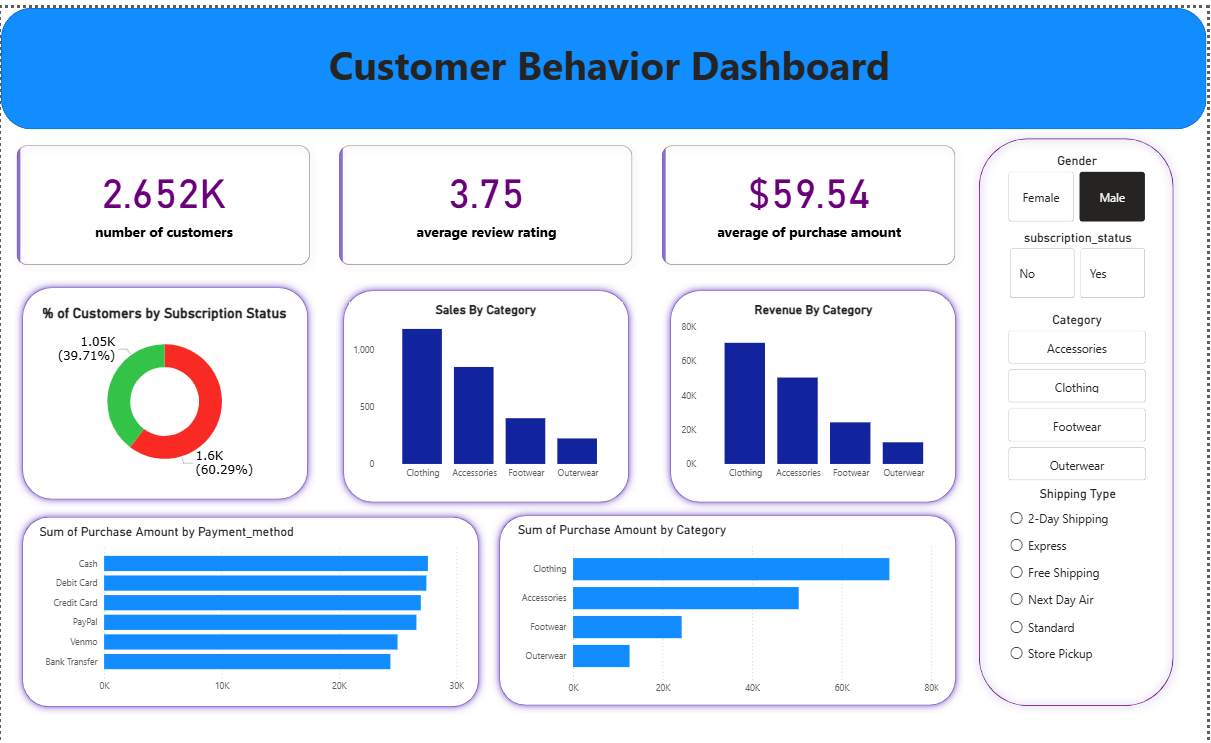

The page's visual inventory and layout, read from the dashboard file:
{"tool":"powerbi","page":{"name":"Page 1","canvas":[1640,1000],"ordinal":0},"visuals":[{"type":"cardVisual","fields":{"Data":["public customers.number of customers","public customers.average review rating","public customers.average of purchase amount"]},"box":[0,165,1320,205],"z":0},{"type":"shape","box":[0,0,1640,165],"z":1000},{"type":"textbox","box":[78.2,34.8,1500.7,98.5],"z":2000},{"type":"shape","box":[17.5,370,410,310],"z":3000},{"type":"donutChart","title":"% of Customers by Subscription Status","fields":{"Category":["public customers.subscription_status"],"Y":["Count(public customers.customer_id)"]},"box":[50,405,342.5,240],"z":4000},{"type":"shape","box":[1320,167.5,285,792.5],"z":9000},{"type":"advancedSlicerVisual","title":"Gender","fields":{"Values":["public customers.gender"]},"box":[1365,197.5,197.5,97.5],"z":11000},{"type":"advancedSlicerVisual","title":"Category","fields":{"Values":["public customers.category"]},"box":[1365,415,197.5,235],"z":12000},{"type":"listSlicer","title":"Shipping Type","fields":{"Values":["public customers.shipping_type"]},"box":[1367.5,650,195,252.5],"z":13000},{"type":"shape","box":[17.5,682.5,642.5,280],"z":14000},{"type":"clusteredBarChart","title":"Sum of Purchase Amount by Payment_method","fields":{"Y":["Sum(public customers.purchase_amount)"],"Category":["public customers.payment_method"]},"box":[47.5,702.5,587.5,237.5],"z":15000},{"type":"shape","box":[667.5,680,642.5,280],"z":16000},{"type":"clusteredBarChart","title":"Sum of Purchase Amount by Category","fields":{"Category":["public customers.category"],"Y":["Sum(public customers.purchase_amount)"]},"box":[697.5,700,582.5,242.5],"z":17000},{"type":"shape","box":[455,372.5,410,310],"z":17001},{"type":"shape","box":[900,372.5,410,310],"z":17002},{"type":"lineClusteredColumnComboChart","title":"Revenue By Category","fields":{"Y":["Sum(public customers.purchase_amount)"],"Category":["public customers.category"]},"box":[920,400,370,250],"z":17003},{"type":"lineClusteredColumnComboChart","title":"Sales By Category","fields":{"Category":["public customers.category"],"Y":["CountNonNull(public customers.customer_id)"]},"box":[472.5,400,372.5,250],"z":17004},{"type":"advancedSlicerVisual","fields":{"Values":["public customers.subscription_status"]},"box":[1367.5,302.5,195,97.5],"z":17005}]}

Visuals, with their boxes in screenshot pixels (x1, y1, x2, y2), scaled from the page's 1640x1000 canvas onto the 1211x743 screenshot:
cardVisual - public customers.number of customers x public customers.average review rating: 0,123,975,275
shape: 0,0,1210,123
textbox: 58,26,1166,99
shape: 13,275,316,505
"% of Customers by Subscription Status" donutChart: 37,301,290,479
shape: 975,124,1185,713
"Gender" advancedSlicerVisual: 1008,147,1154,219
"Category" advancedSlicerVisual: 1008,308,1154,483
"Shipping Type" listSlicer: 1010,483,1154,671
shape: 13,507,487,715
"Sum of Purchase Amount by Payment_method" clusteredBarChart: 35,522,469,698
shape: 493,505,967,713
"Sum of Purchase Amount by Category" clusteredBarChart: 515,520,945,700
shape: 336,277,639,507
shape: 665,277,967,507
"Revenue By Category" lineClusteredColumnComboChart: 679,297,953,483
"Sales By Category" lineClusteredColumnComboChart: 349,297,624,483
advancedSlicerVisual - public customers.subscription_status: 1010,225,1154,297
